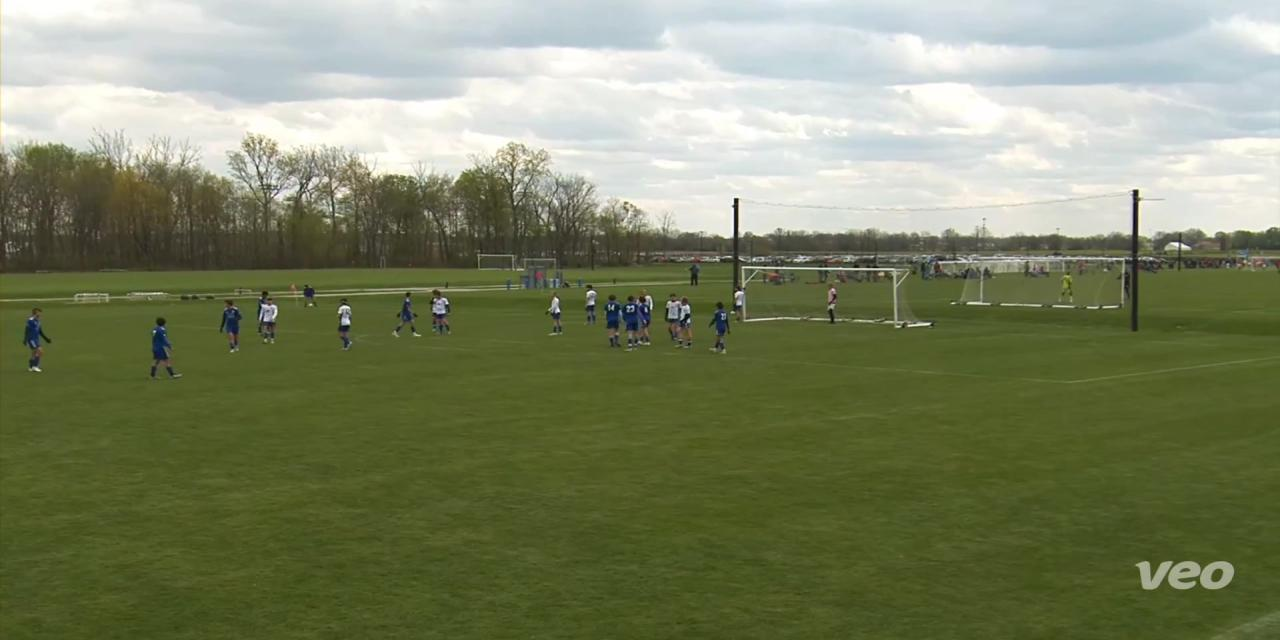goal: (713, 256, 944, 339)
sports ball: (305, 295, 321, 310)
